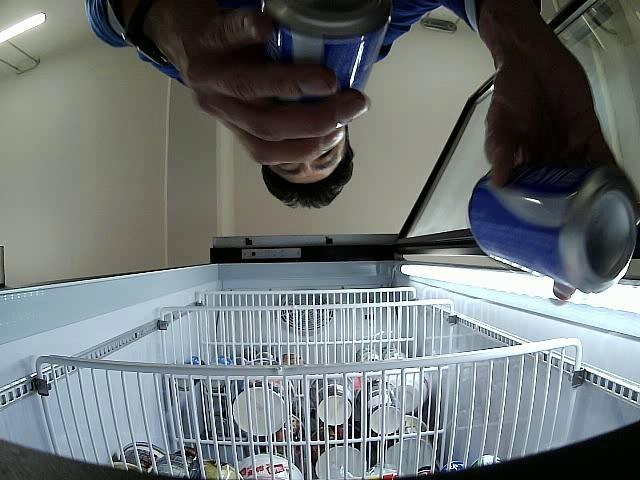13_pocariSweat: (470, 168, 638, 292), (264, 0, 394, 94)
